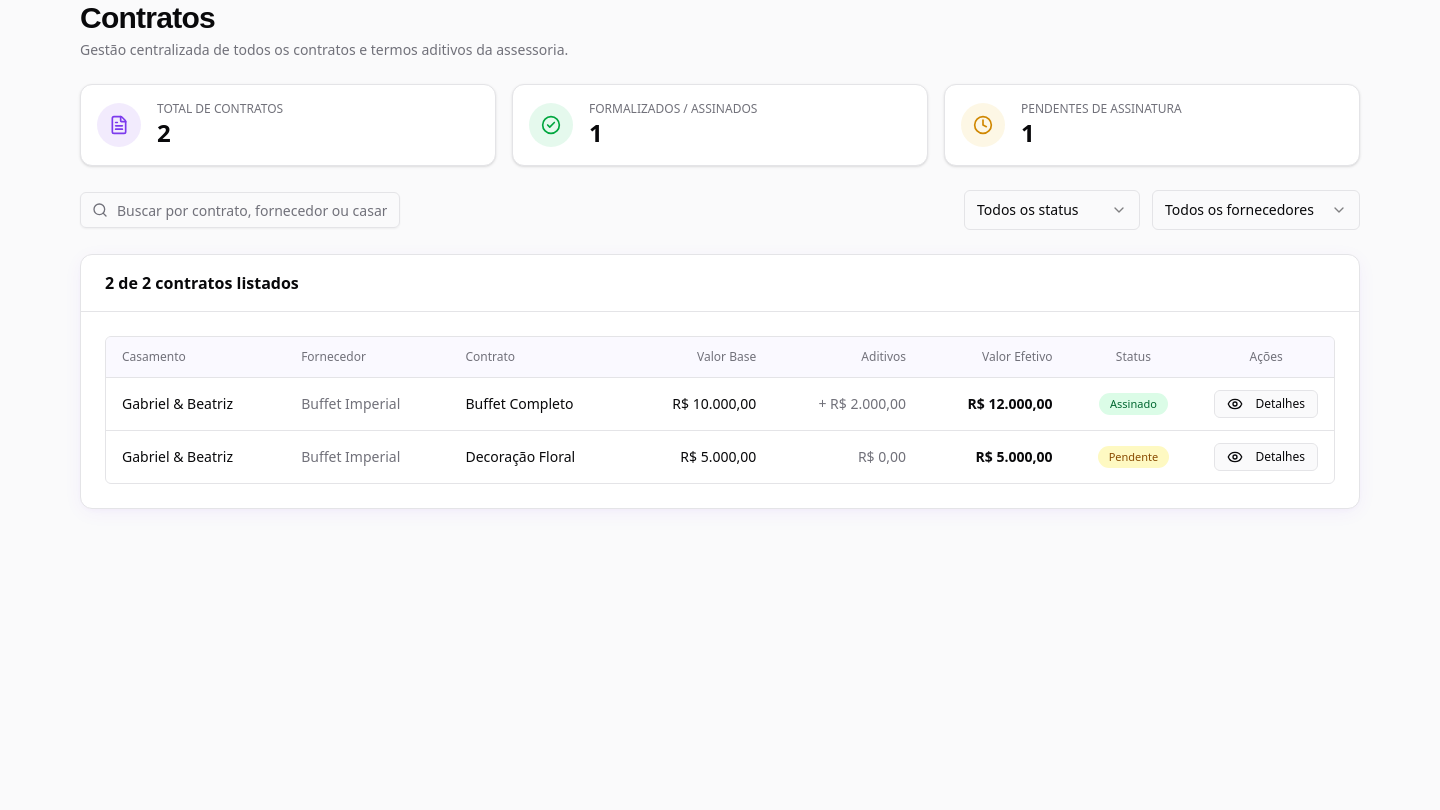
ContractsGlobalPage › abre o diálogo de detalhes ao clicar no botão Detalhes
Click the button "Detalhes" in the row of "Buffet Completo" at (1266, 404), box x1=1214 y1=390 x2=1318 y2=418
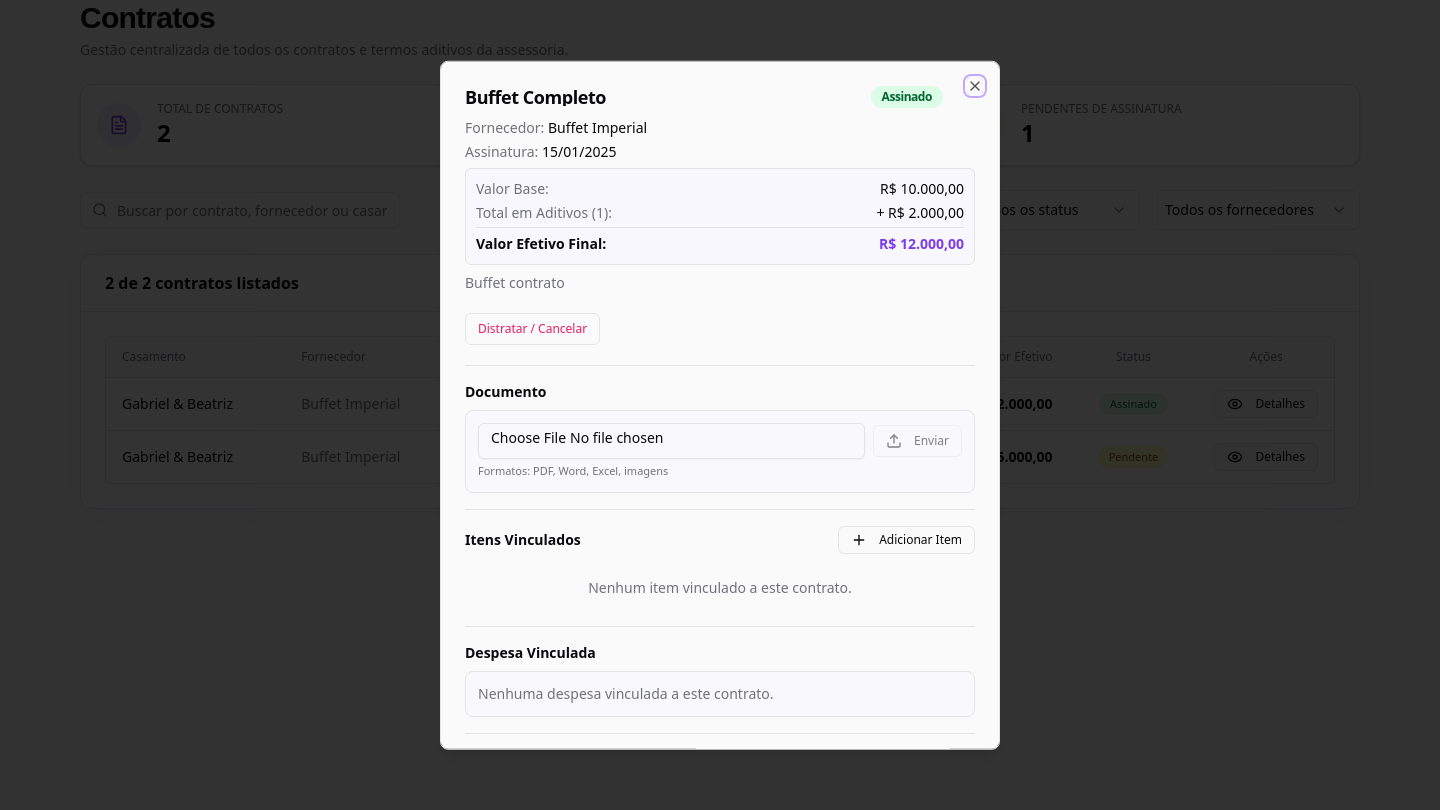
Expected: the dialog is shown, x1=440 y1=61 x2=1000 y2=749
